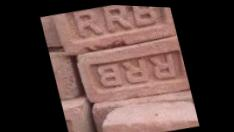brick: (74, 31, 191, 110), (51, 2, 178, 59), (100, 103, 200, 132)
